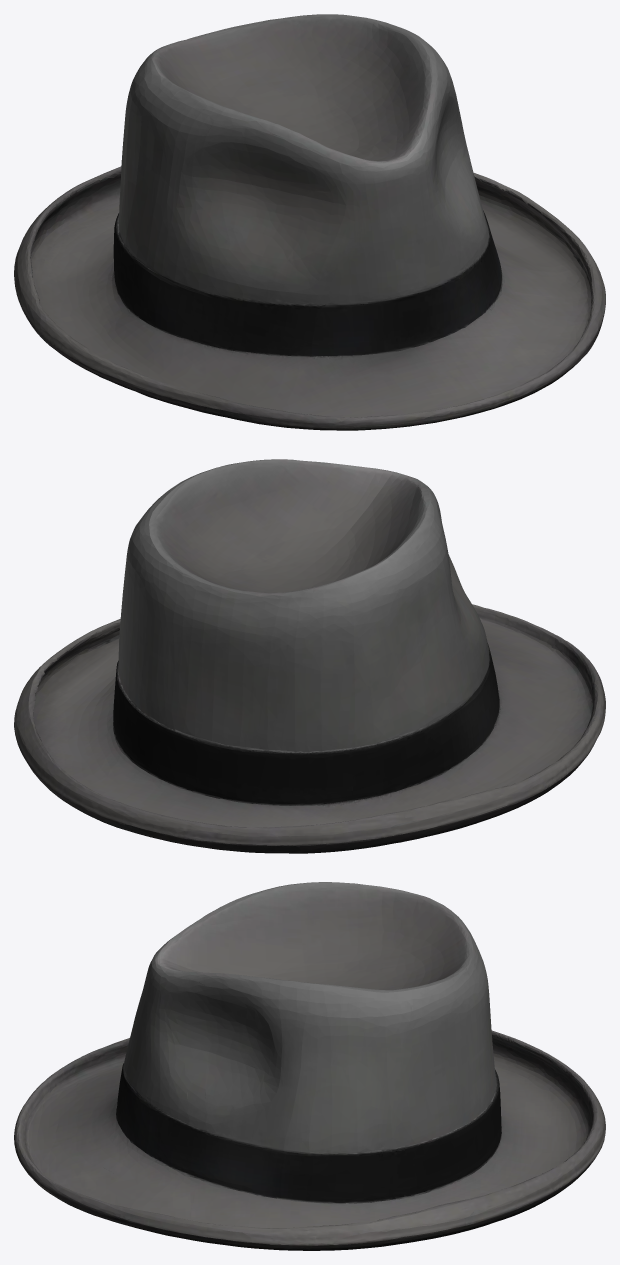
Rendered from fedora.glb.
The picture shows the model from 3 angles, top to bottom: view 1: azimuth 30°, elevation 25°; view 2: azimuth 150°, elevation 25°; view 3: azimuth 270°, elevation 25°; orthographic projection. The views are drawn at different scales.
Visible parts, largest first — view 1: geometry_0; view 2: geometry_0; view 3: geometry_0.
Boxes of the visible parts, x1,y1,x2,y2 form: geometry_0: (14,14,605,430); geometry_0: (14,459,605,853); geometry_0: (14,882,605,1250).
Size of the model in its own units: 0.9127 by 0.3983 by 1.
Materials: 1 (1 with a texture image).
